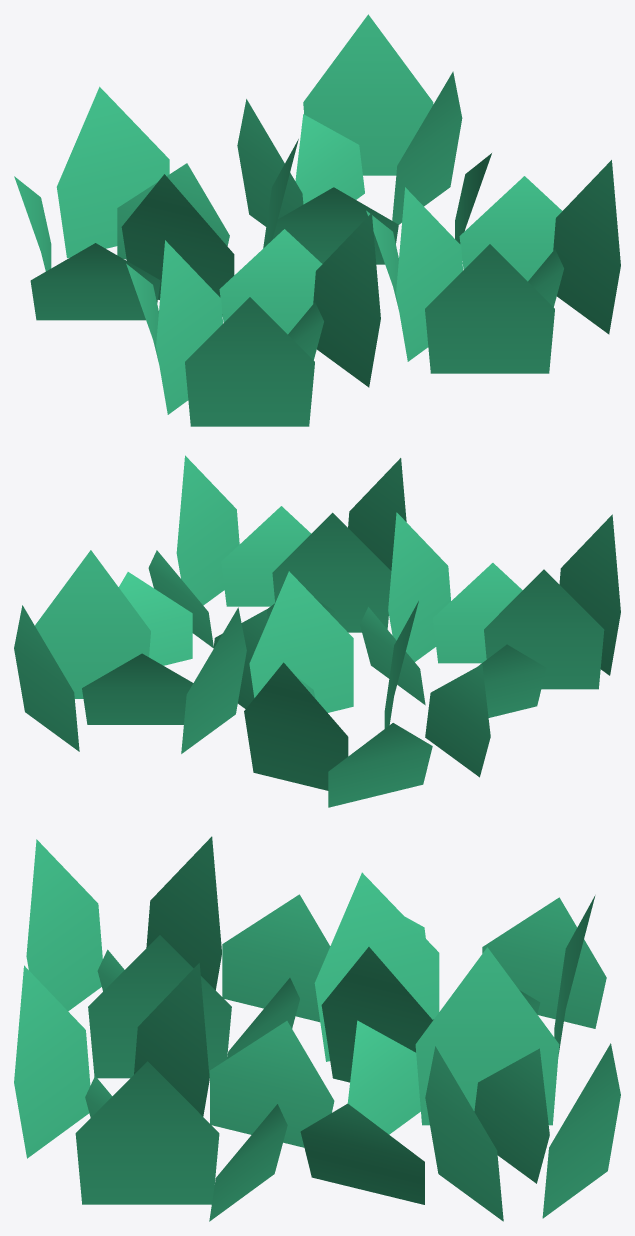
File: grass_large.fbx
The picture shows the model from 3 angles, top to bottom: view 1: azimuth 30°, elevation 25°; view 2: azimuth 150°, elevation 25°; view 3: azimuth 270°, elevation 25°; orthographic projection. The views are drawn at different scales.
Visible parts, largest first — view 1: grass_large; view 2: grass_large; view 3: grass_large.
Part boxes in pixels (<box>): grass_large: <box>14,14,620,426</box>; grass_large: <box>14,455,620,807</box>; grass_large: <box>14,836,620,1221</box>.
Bounding box in the file's own units: 18.74 × 5.61 × 19.19.
